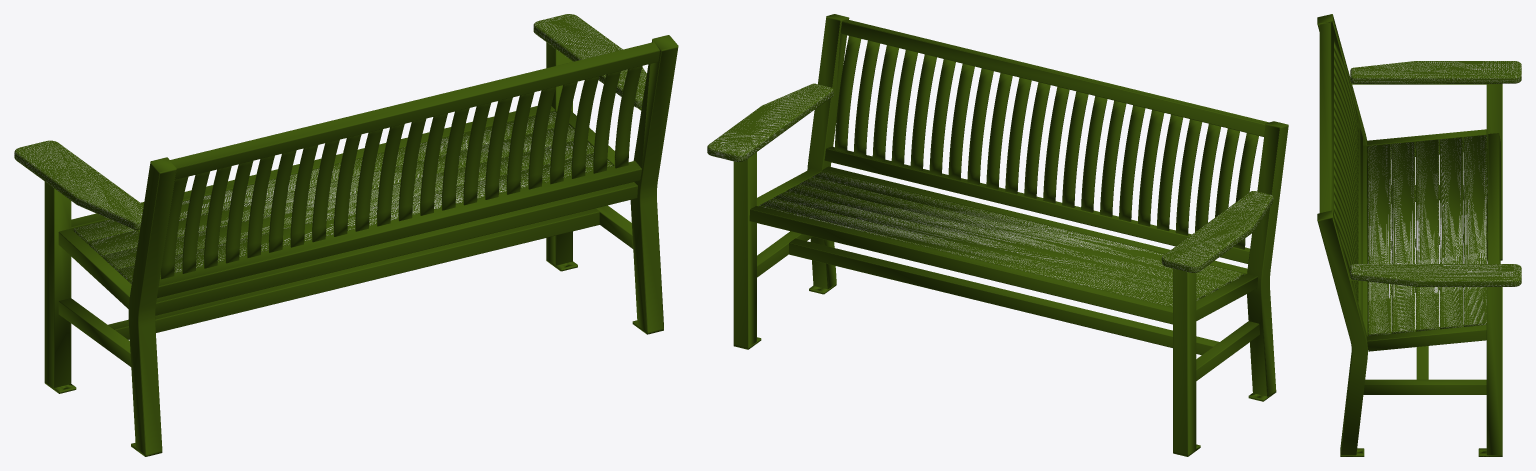
3 renders of one model, left to right at view 1: azimuth 30°, elevation 25°; view 2: azimuth 150°, elevation 25°; view 3: azimuth 270°, elevation 25°, orthographic. The views are drawn at different scales.
Visible parts, largest first — view 1: mesh3_mesh3-geometry, mesh31_mesh31-geometry, mesh15_mesh15-geometry, mesh32_mesh32-geometry, mesh35_mesh35-geometry, mesh2_mesh2-geometry, mesh5_mesh5-geometry, mesh36_mesh36-geometry, mesh7_mesh7-geometry, mesh4_mesh4-geometry, mesh1_mesh1-geometry, mesh34_mesh34-geometry (+22 smaller); view 2: mesh31_mesh31-geometry, mesh3_mesh3-geometry, mesh34_mesh34-geometry, mesh35_mesh35-geometry, mesh15_mesh15-geometry, mesh7_mesh7-geometry, mesh2_mesh2-geometry, mesh36_mesh36-geometry, mesh5_mesh5-geometry, mesh32_mesh32-geometry, mesh13_mesh13-geometry, mesh12_mesh12-geometry (+23 smaller); view 3: mesh31_mesh31-geometry, mesh3_mesh3-geometry, mesh7_mesh7-geometry, mesh5_mesh5-geometry, mesh36_mesh36-geometry, mesh6_mesh6-geometry, mesh34_mesh34-geometry, mesh2_mesh2-geometry, mesh32_mesh32-geometry, mesh15_mesh15-geometry, mesh4_mesh4-geometry, mesh35_mesh35-geometry (+21 smaller).
Part boxes in pixels (<box>): mesh3_mesh3-geometry: <box>128,35,678,456</box>; mesh31_mesh31-geometry: <box>74,111,612,283</box>; mesh15_mesh15-geometry: <box>157,161,641,298</box>; mesh32_mesh32-geometry: <box>155,182,637,315</box>; mesh35_mesh35-geometry: <box>108,208,599,339</box>; mesh2_mesh2-geometry: <box>44,182,139,393</box>; mesh5_mesh5-geometry: <box>14,140,143,230</box>; mesh36_mesh36-geometry: <box>533,14,646,107</box>; mesh7_mesh7-geometry: <box>546,42,641,271</box>; mesh4_mesh4-geometry: <box>58,228,131,308</box>; mesh1_mesh1-geometry: <box>58,298,131,366</box>; mesh34_mesh34-geometry: <box>71,106,555,230</box>; mesh31_mesh31-geometry: <box>759,171,1243,307</box>; mesh3_mesh3-geometry: <box>807,14,1288,401</box>; mesh34_mesh34-geometry: <box>749,206,1172,324</box>; mesh35_mesh35-geometry: <box>789,238,1219,355</box>; mesh15_mesh15-geometry: <box>824,146,1249,263</box>; mesh7_mesh7-geometry: <box>733,152,812,349</box>; mesh2_mesh2-geometry: <box>1173,268,1200,456</box>; mesh36_mesh36-geometry: <box>707,83,833,161</box>; mesh5_mesh5-geometry: <box>1161,191,1273,272</box>; mesh32_mesh32-geometry: <box>822,166,1247,275</box>; mesh13_mesh13-geometry: <box>853,40,880,156</box>; mesh12_mesh12-geometry: <box>872,45,898,161</box>; mesh31_mesh31-geometry: <box>1367,135,1487,335</box>; mesh3_mesh3-geometry: <box>1317,14,1367,456</box>; mesh7_mesh7-geometry: <box>1350,278,1502,456</box>; mesh5_mesh5-geometry: <box>1350,61,1521,83</box>; mesh36_mesh36-geometry: <box>1350,264,1521,286</box>; mesh6_mesh6-geometry: <box>1367,325,1486,351</box>; mesh34_mesh34-geometry: <box>1487,133,1500,263</box>; mesh2_mesh2-geometry: <box>1350,81,1502,260</box>; mesh32_mesh32-geometry: <box>1363,145,1367,336</box>; mesh15_mesh15-geometry: <box>1358,128,1362,319</box>; mesh4_mesh4-geometry: <box>1367,129,1486,151</box>; mesh35_mesh35-geometry: <box>1416,346,1428,379</box>.
Bounding box in the file's own units: 0.8414 × 0.4278 × 0.3303.
